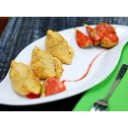samosa: (45, 27, 78, 65), (9, 59, 42, 96), (31, 45, 64, 77)
